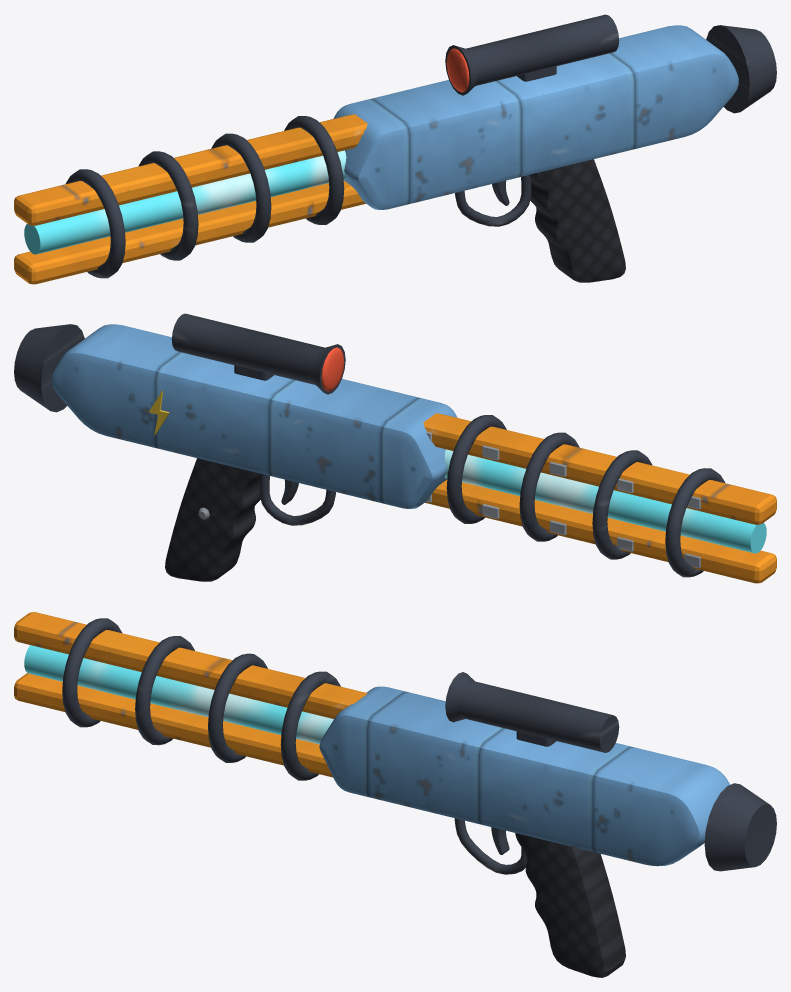
File: Railgun.fbx
The picture shows the model from 3 angles, top to bottom: view 1: azimuth 30°, elevation 25°; view 2: azimuth 150°, elevation 25°; view 3: azimuth 330°, elevation 25°; orthographic projection.
Parts seen in each view (by area): view 1: Railgun; view 2: Railgun; view 3: Railgun.
Boxes of the visible parts, x1,y1,x2,y2 form: Railgun: [14, 14, 776, 284]; Railgun: [14, 313, 776, 583]; Railgun: [14, 612, 776, 977].
Size of the model in its own units: 1.32 by 0.4467 by 0.174.
Materials: 8 (8 with a texture image).
